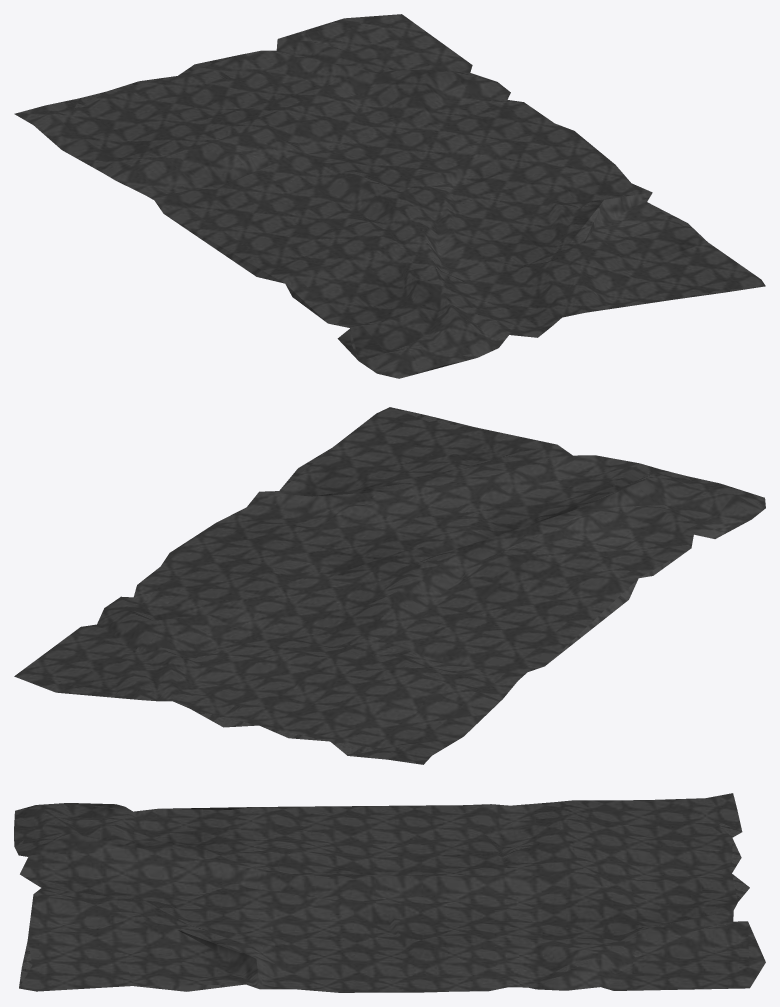
File: Carpet0018.obj
3 renders of one model, top to bottom at view 1: azimuth 30°, elevation 25°; view 2: azimuth 150°, elevation 25°; view 3: azimuth 270°, elevation 25°, orthographic.
Size of the model in its own units: 1.91 by 0.1 by 3.09.
Materials: 1 (1 with a texture image).
